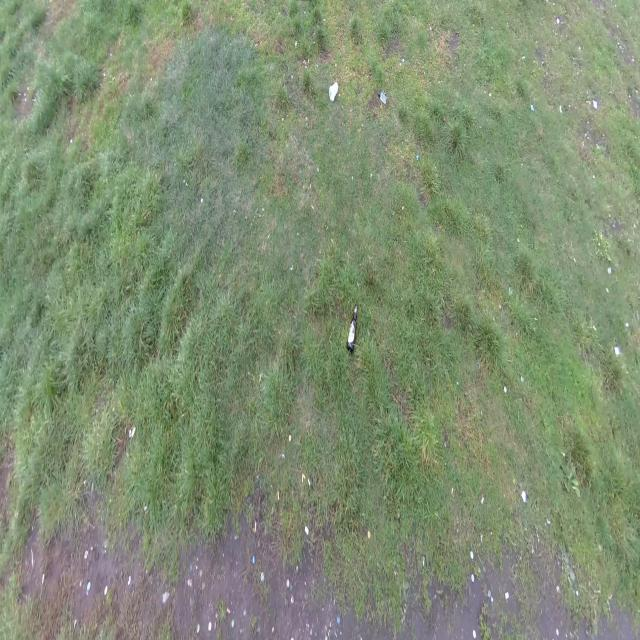rubbish: (346, 302, 358, 354), (378, 86, 387, 107), (330, 81, 340, 98)
